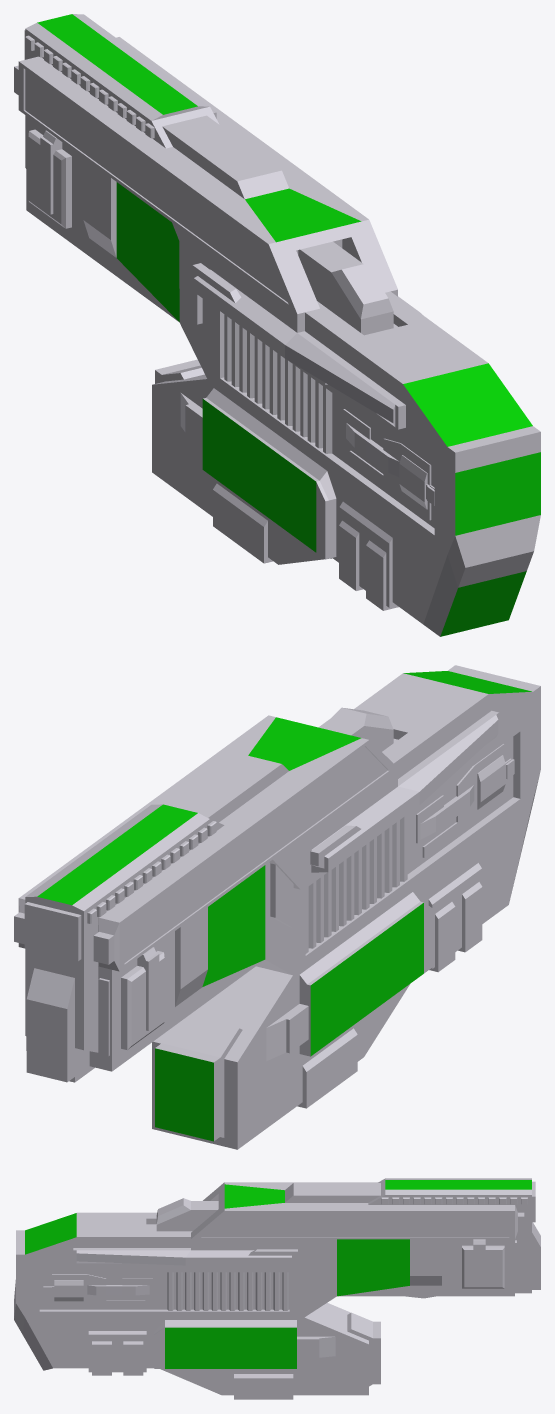
File: hull.split.fbx
3 renders of one model, top to bottom at view 1: azimuth 30°, elevation 25°; view 2: azimuth 150°, elevation 25°; view 3: azimuth 270°, elevation 25°, orthographic. The views are drawn at different scales.
Visible parts, largest first — view 1: hull.split; view 2: hull.split; view 3: hull.split.
Boxes of the visible parts, x1,y1,x2,y2 form: hull.split: (14, 14, 540, 636); hull.split: (14, 665, 540, 1149); hull.split: (14, 1178, 540, 1399).
Bounding box in the file's own units: 1.61 × 3.96 × 9.38.
